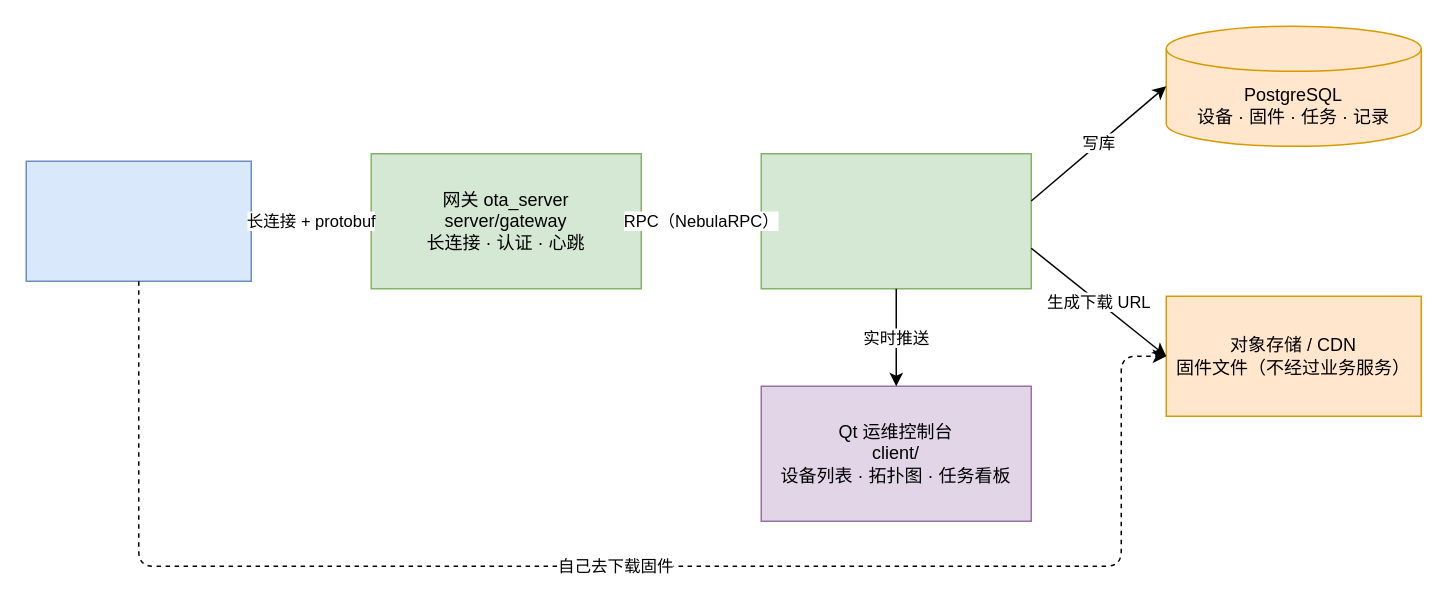
This 1448x605 diagram has some shape labels left out. The centre of each missing label's shape, as x and y in pixels:
"业务服务 server/service 设备 · 固件 · 任务" belongs at (x=895, y=220).
"设备群 （最多 10 万）" belongs at (x=138, y=220).
